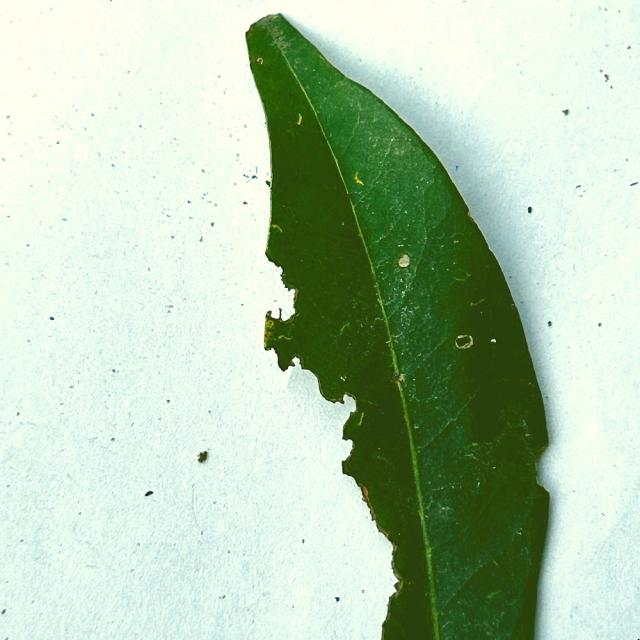Deficiency Leaf: (273, 285, 392, 639)
Lychee: (246, 14, 548, 639)
